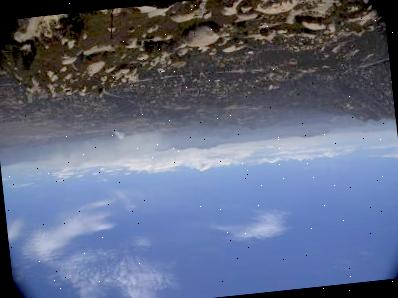smoke: (34, 124, 165, 172)
